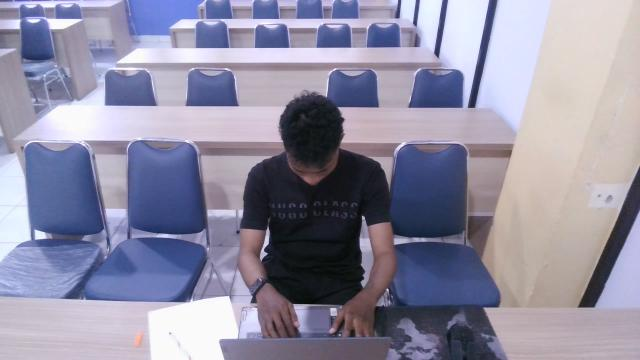Head_Down_Extreme: (231, 83, 401, 303)
